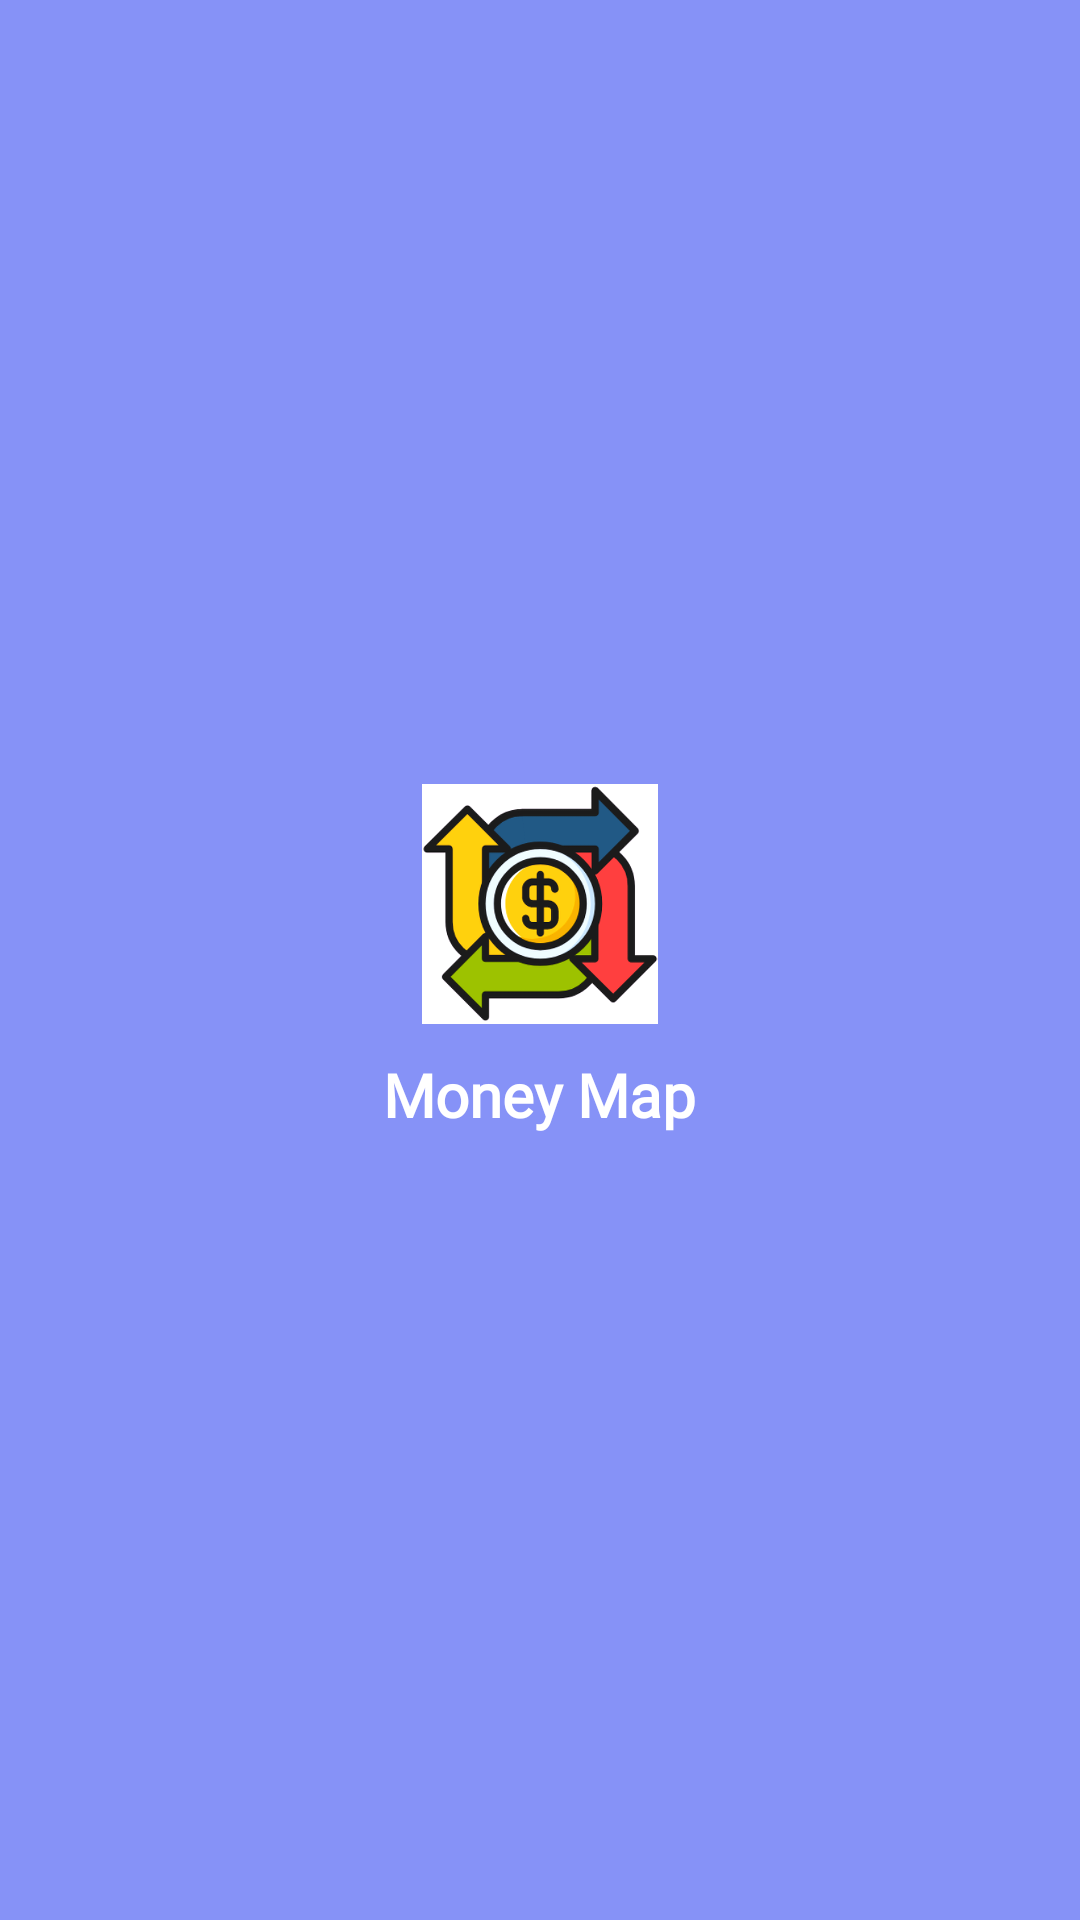

Locate icon controls on the screen. Image size 1080w x 1920h, boxes as BBox(x1, y1, x2, y2).
app: BBox(422, 784, 658, 1024)
